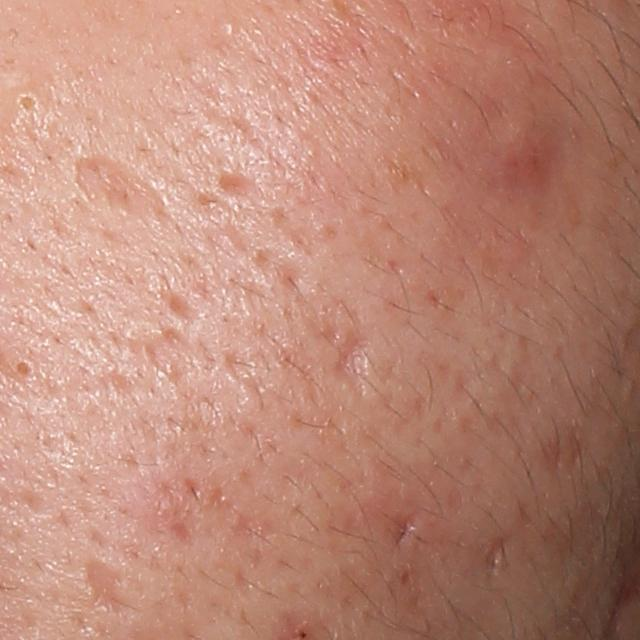atrophic_scar: (70, 153, 182, 237), (108, 330, 211, 406), (320, 301, 381, 398), (62, 350, 140, 418), (476, 502, 538, 583), (78, 556, 140, 623), (216, 159, 271, 216), (159, 272, 207, 324), (382, 510, 421, 554)
comedo: (12, 89, 44, 120)
